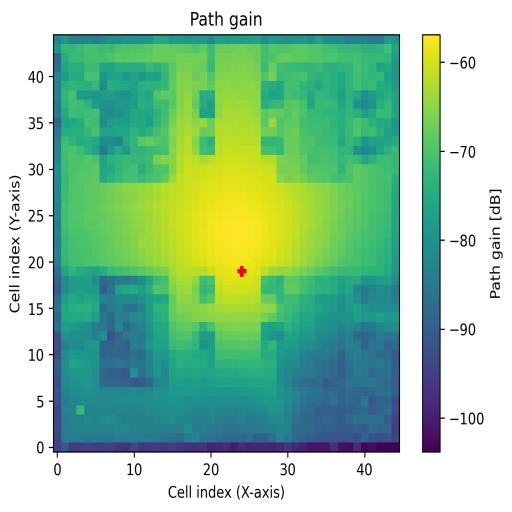Concrete: (276, 62, 352, 183)
Glass: (98, 63, 170, 184)
Metal: (261, 276, 346, 388)
Wood: (98, 275, 170, 389)
